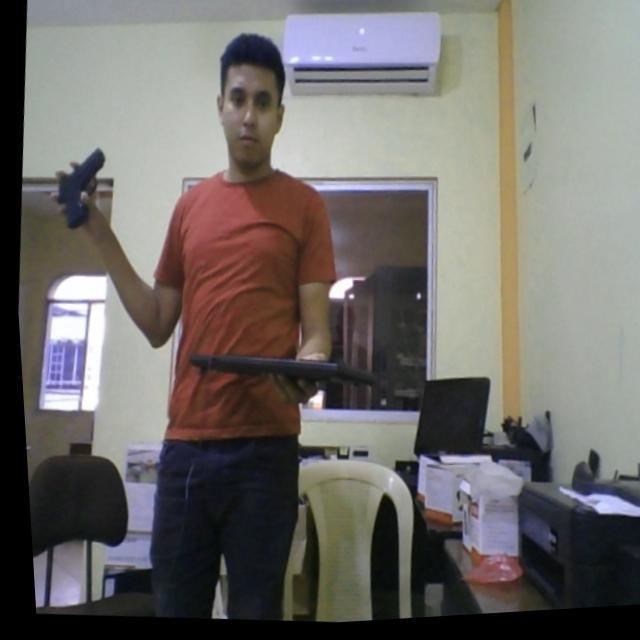weapon: (42, 141, 108, 234)
